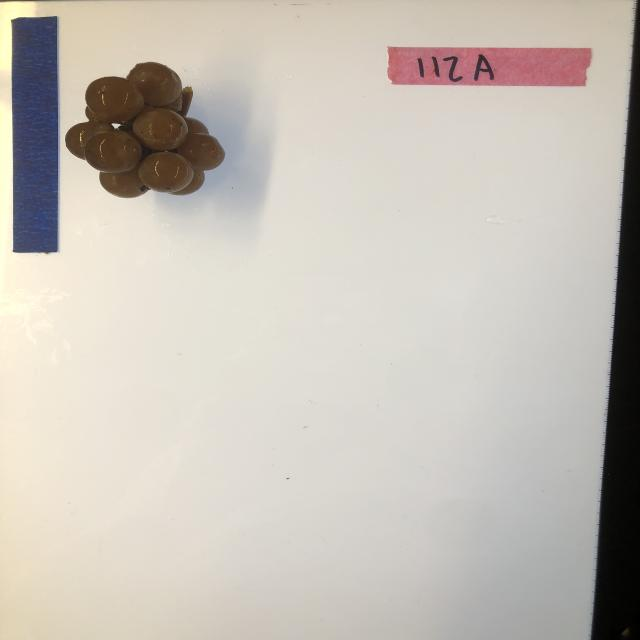grape_cluster: (66, 61, 228, 198)
index: (386, 46, 593, 86)
measure_label: (8, 12, 62, 258)
